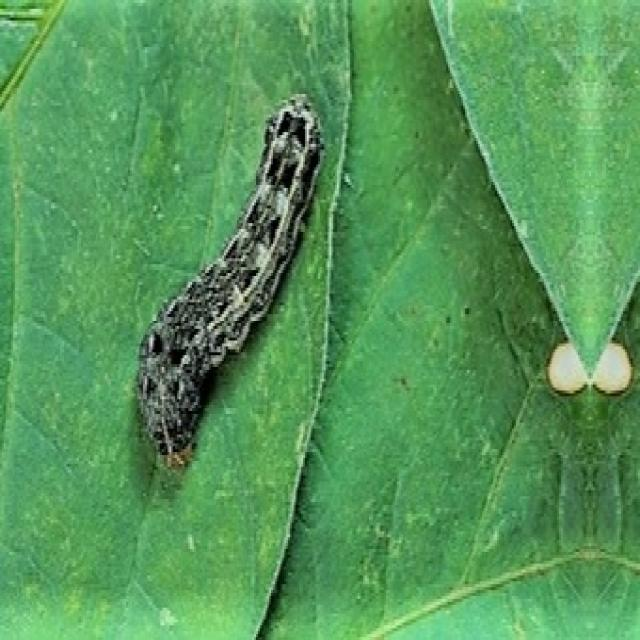Armyworm: (105, 40, 337, 495)
